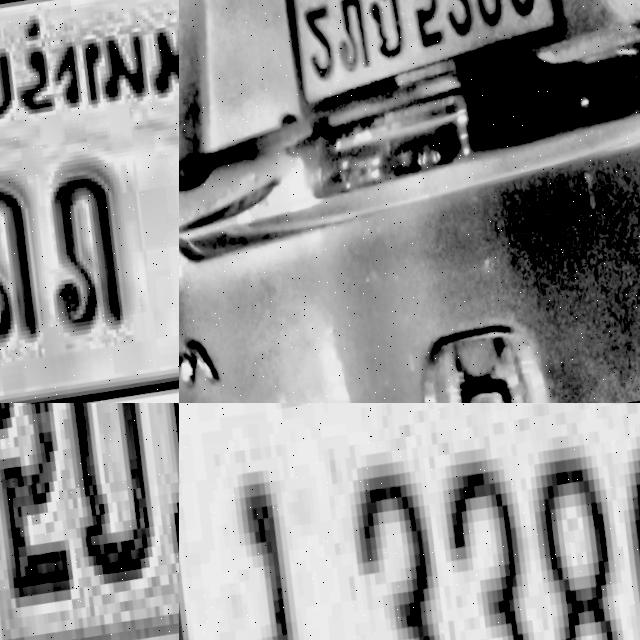license-plate: (179, 403, 640, 640), (0, 0, 179, 403), (0, 403, 179, 640), (298, 0, 555, 100)
